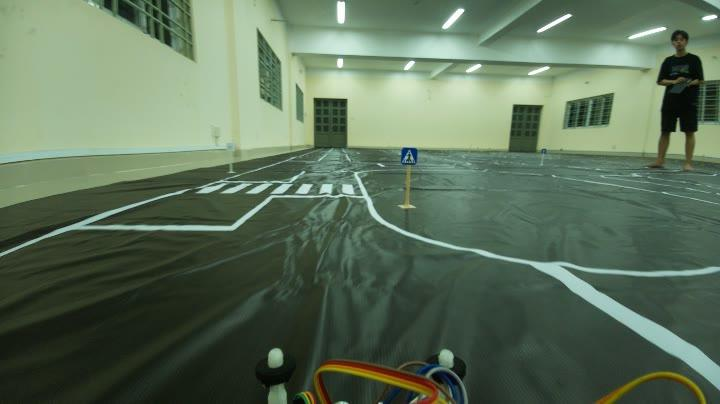crosswalk: (397, 140, 416, 170)
